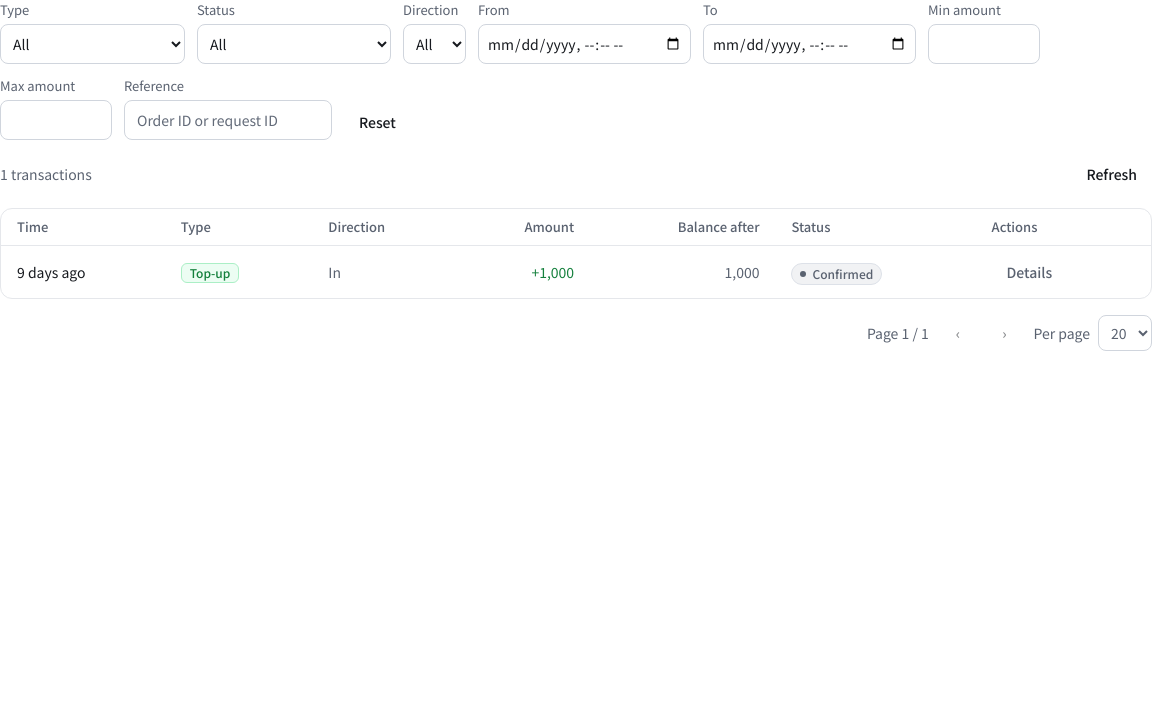
TransactionsSection list (F-03-02) › opens the detail sheet from a row
Click the text "+1,000". click: x=553, y=272
box: [457,246,590,298]
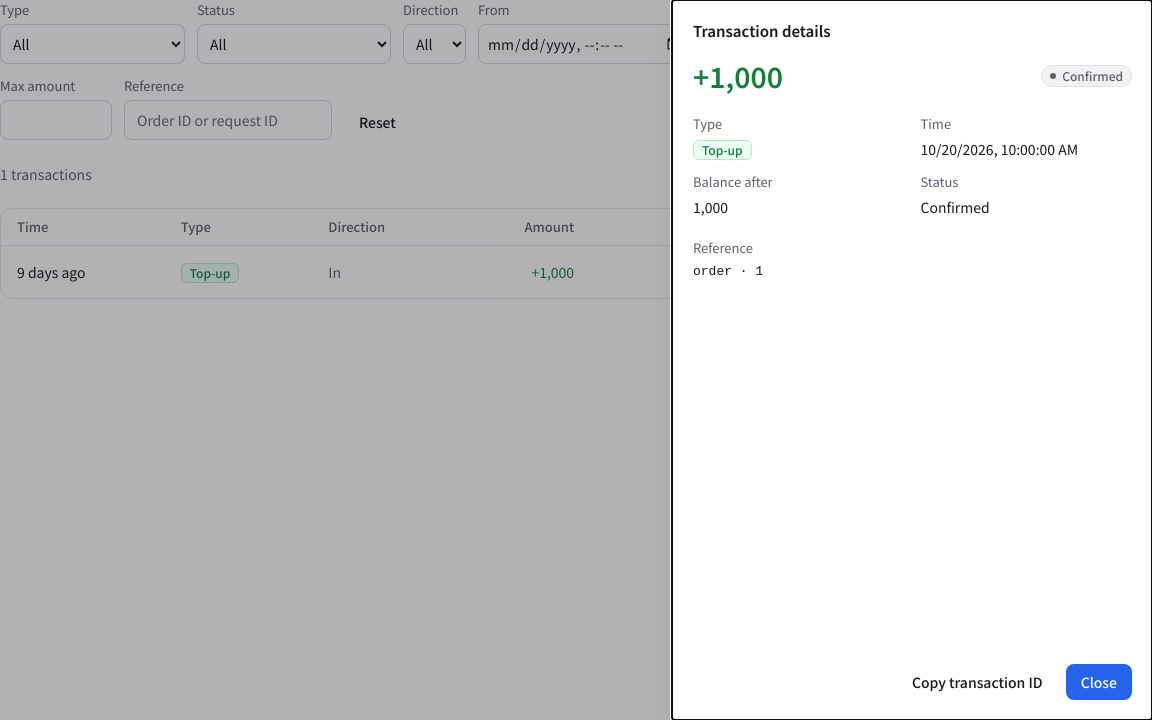
Expected: the heading "Transaction details" is shown, [693,20,831,41]
Expected: the text "+1,000" is shown, [693,58,783,94]
